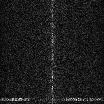wifi: (1, 97, 104, 100)
